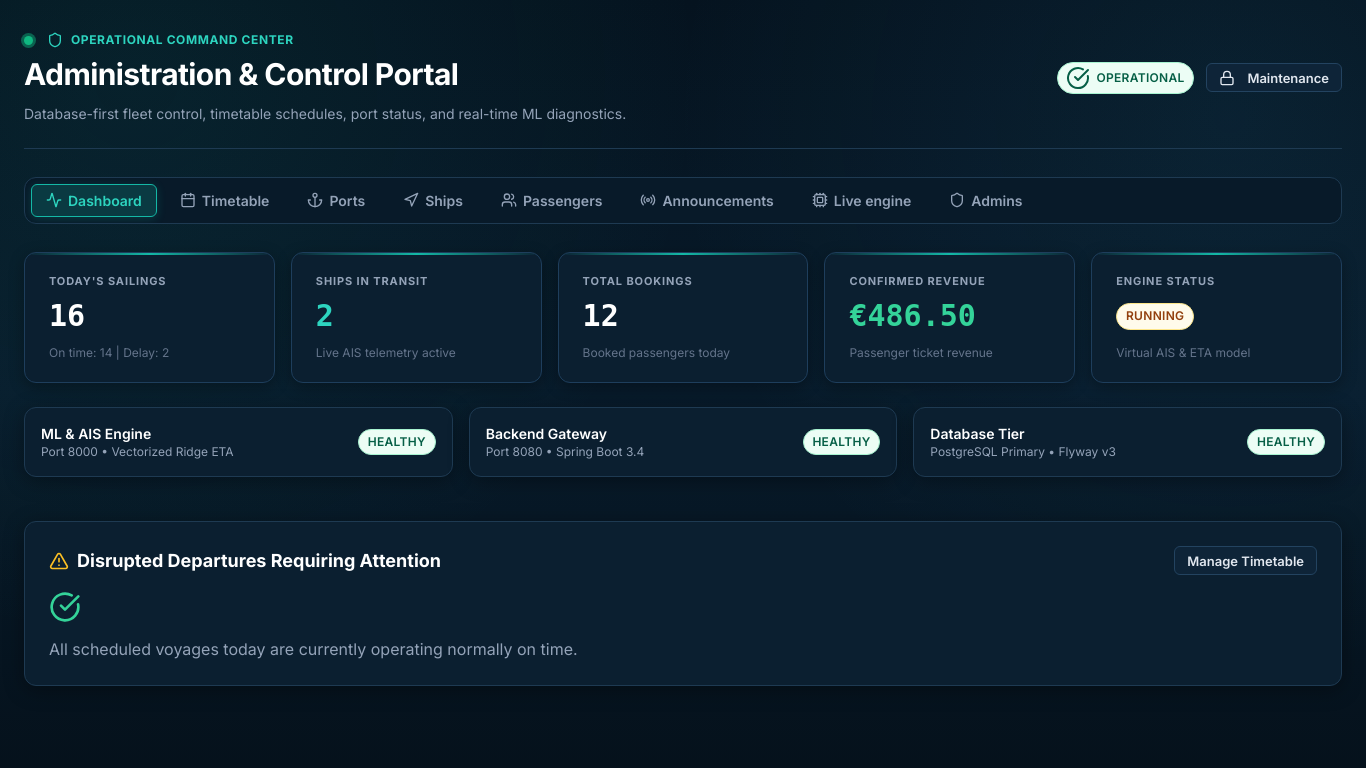
Test case: AdminPage Component › switches to Ports tab and displays port authority management
Click the button "Ports" at (336, 200), box [292,184,380,217]
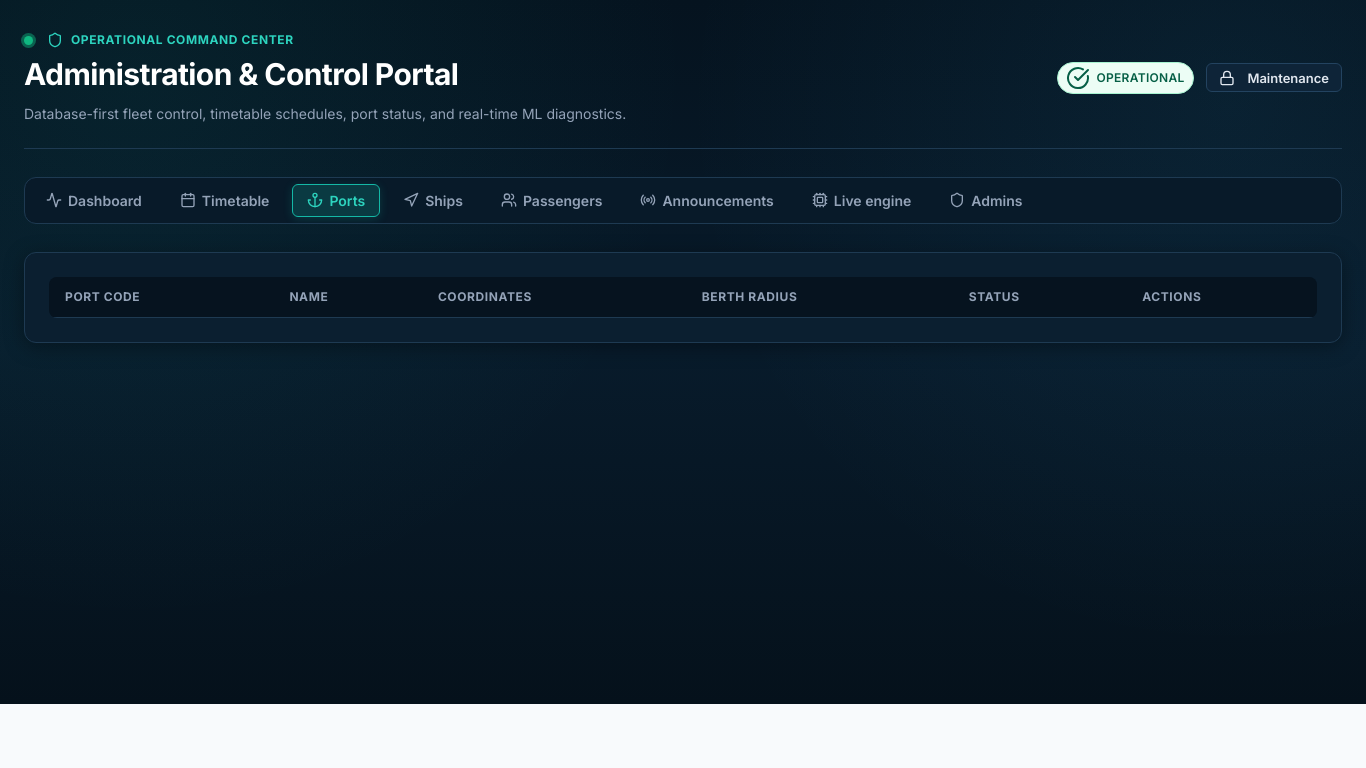
Now the column heading "Port Code" is shown, box [49,277,273,318]
Now the column heading "Berth Radius" is shown, box [686,277,953,318]
